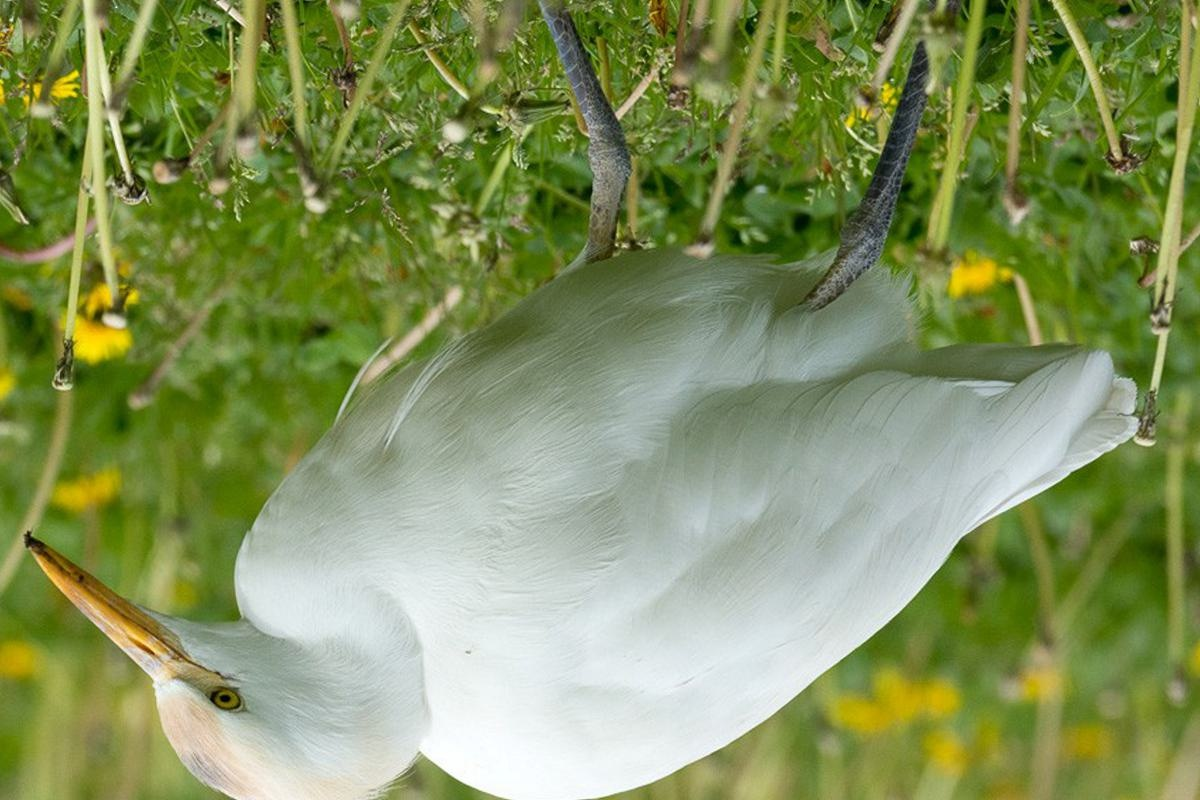egret: (8, 1, 1116, 792)
